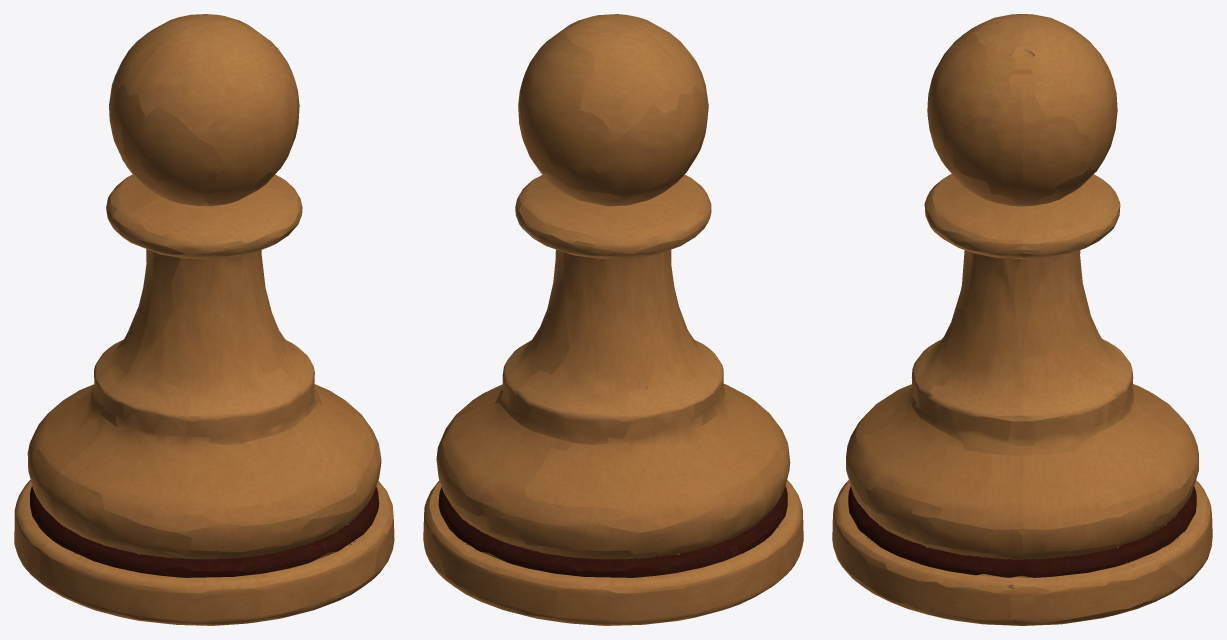
The model's file is 11_pawn_light.glb.
3 renders of one model, left to right at view 1: azimuth 30°, elevation 25°; view 2: azimuth 150°, elevation 25°; view 3: azimuth 270°, elevation 25°, orthographic.
Parts seen in each view (by area): view 1: world; view 2: world; view 3: world.
Boxes of the visible parts, bbox=[...] form: world: bbox=[14, 14, 394, 625]; world: bbox=[423, 14, 803, 625]; world: bbox=[832, 14, 1212, 625].
Bounding box in the file's own units: 0.6586 × 1 × 0.6591.
1 material, 1 textured.
